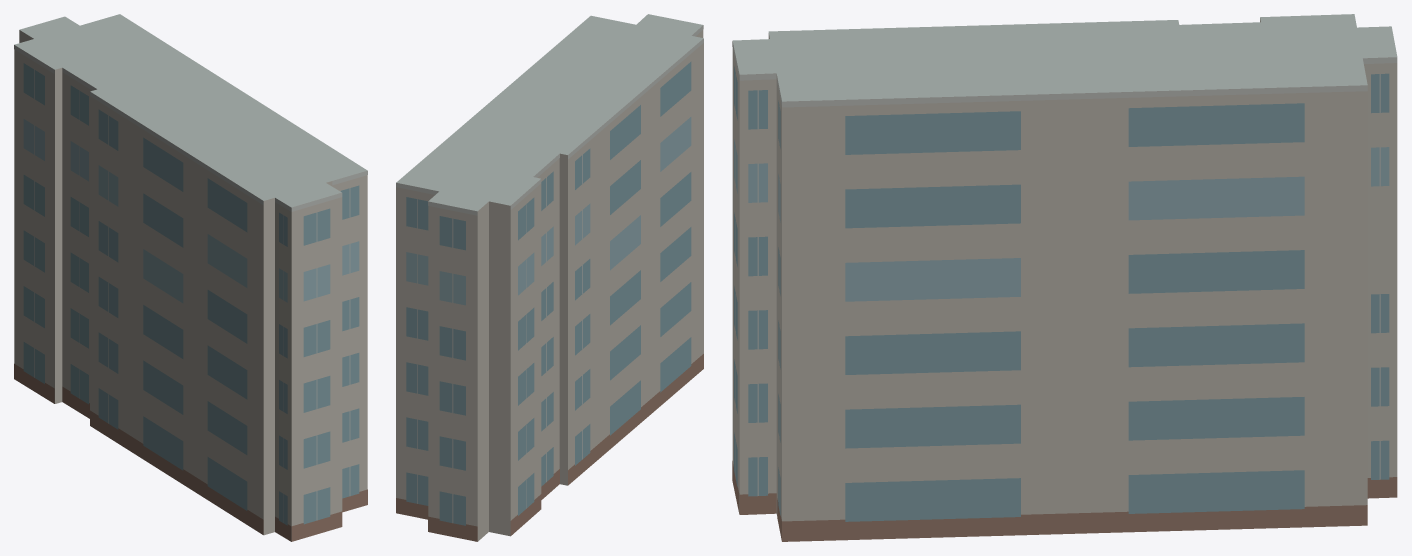
File: survey-upis-32610981.glb
3 views of the same model, side by side, from view 1: azimuth 30°, elevation 25°; view 2: azimuth 150°, elevation 25°; view 3: azimuth 270°, elevation 25° (orthographic). The views are drawn at different scales.
Visible parts, largest first — view 1: survey-upis-32610981.tmp; view 2: survey-upis-32610981.tmp; view 3: survey-upis-32610981.tmp.
Part boxes in pixels (x1,y1,x2,y2): survey-upis-32610981.tmp: [14, 14, 367, 541]; survey-upis-32610981.tmp: [396, 14, 703, 541]; survey-upis-32610981.tmp: [732, 14, 1397, 541].
Bounding box in the file's own units: 7.77 × 18.2 × 24.92.
